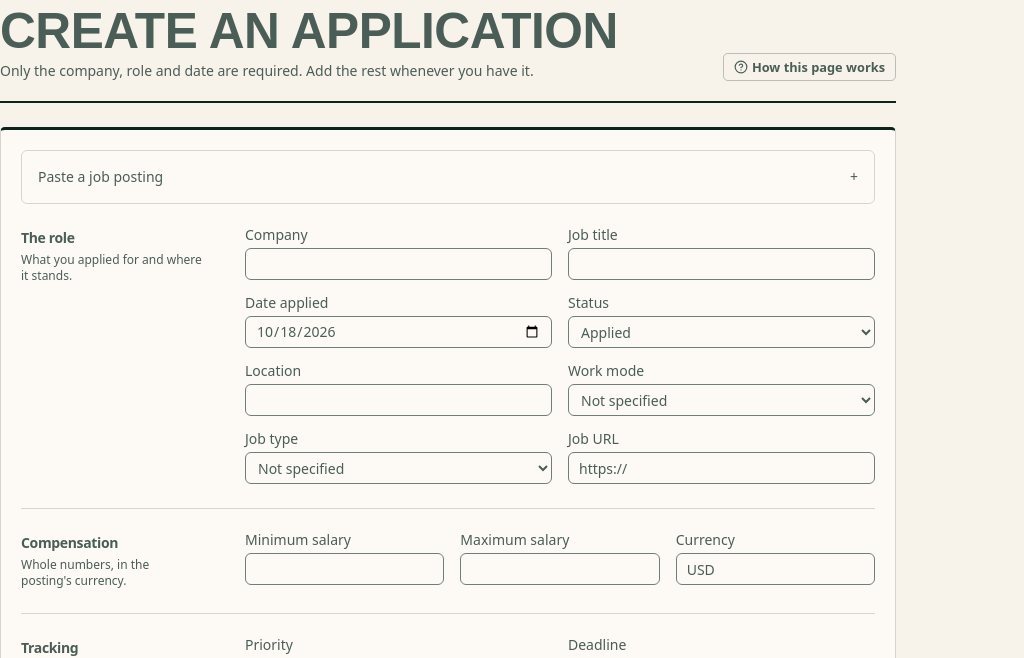
Test case: ApplicationFormPage validation › rejects a malformed job link before submitting
In the field labelled "Company": (398, 264) [245,248,552,280], type "Acme"
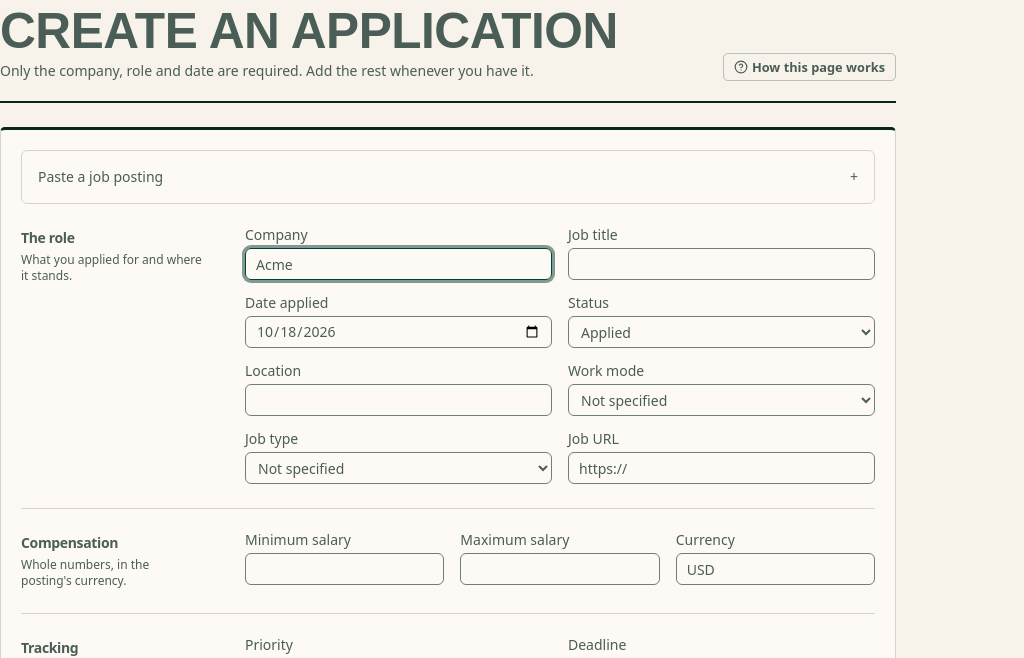
In the field labelled "Job title": (722, 264) [568,248,875,280], type "Engineer"
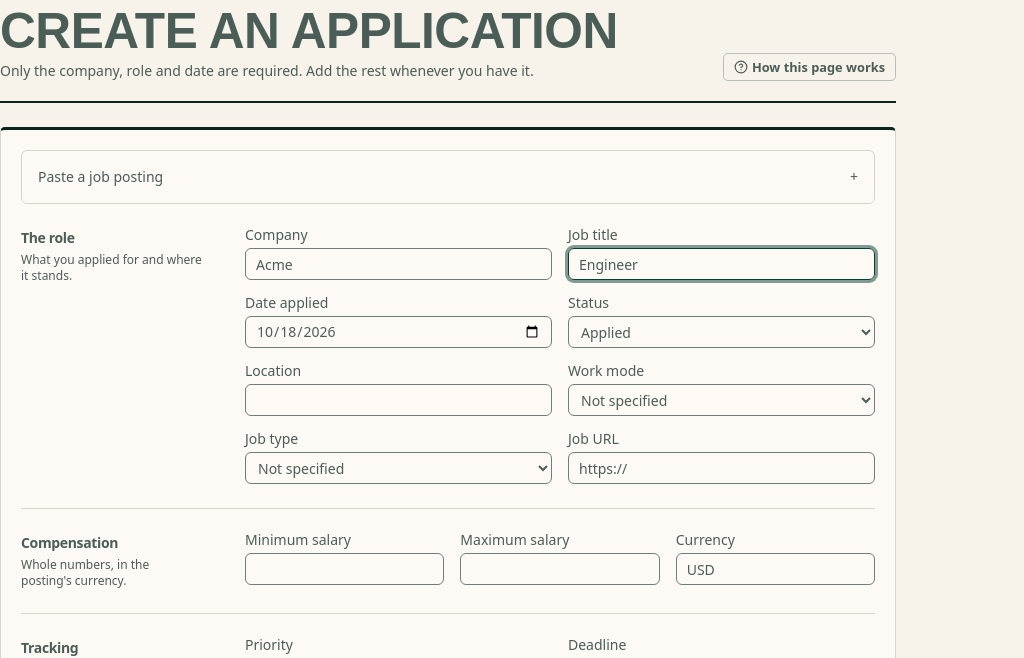
In the date field labelled "Date applied": (398, 332) [245,316,552,348], type "2026-01-05"
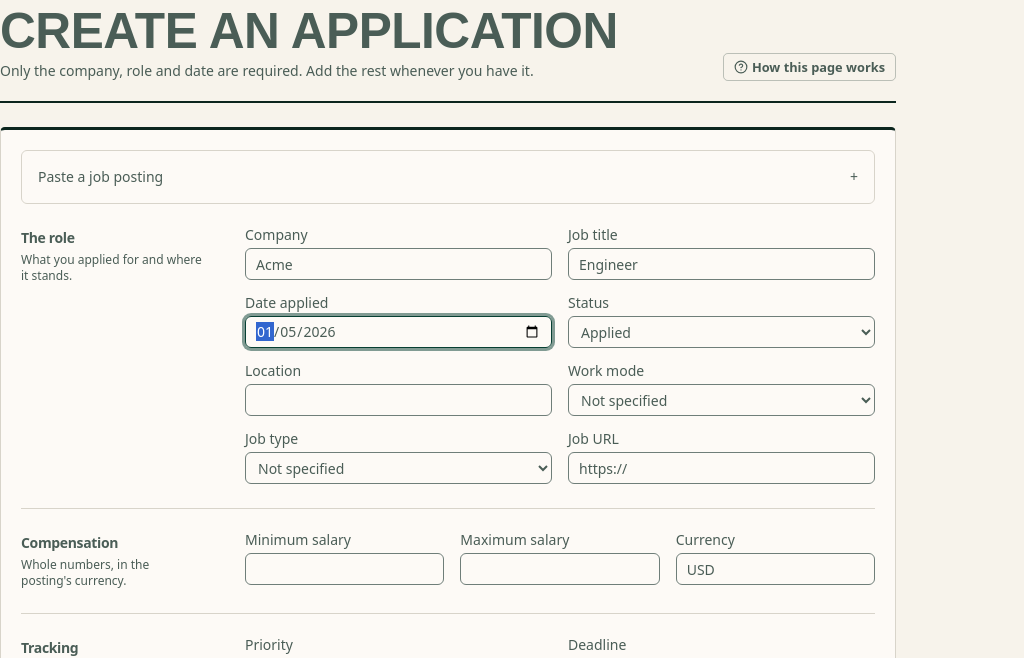
In the field labelled "Job URL": (722, 468) [568,452,875,484], type "not a link"
(page scrolled)
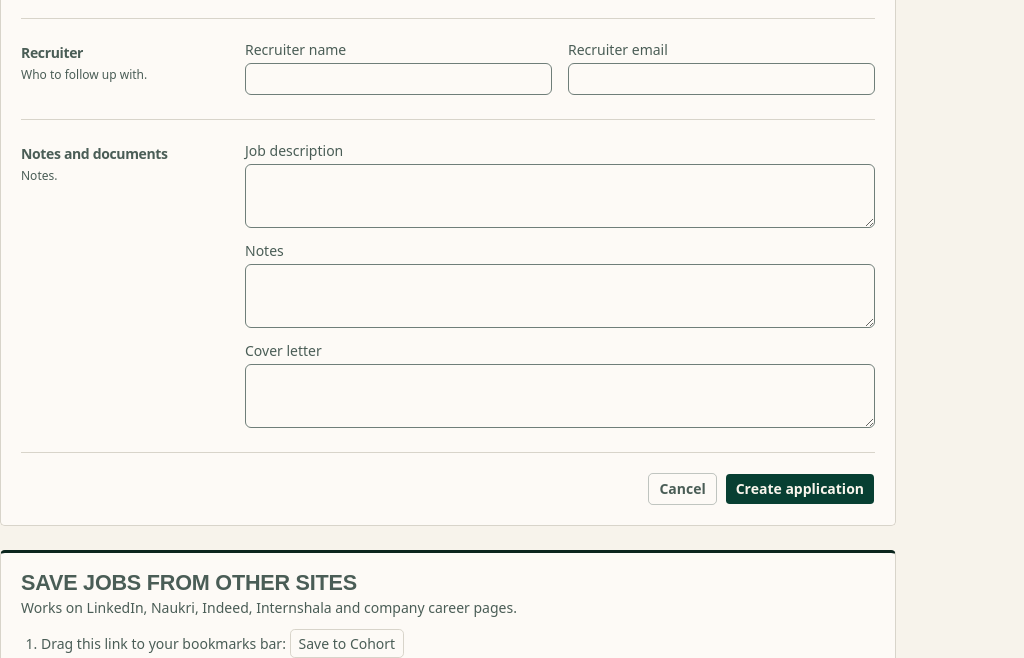
Click the button "Create application": (800, 489) [725,473,875,505]
(page scrolled)
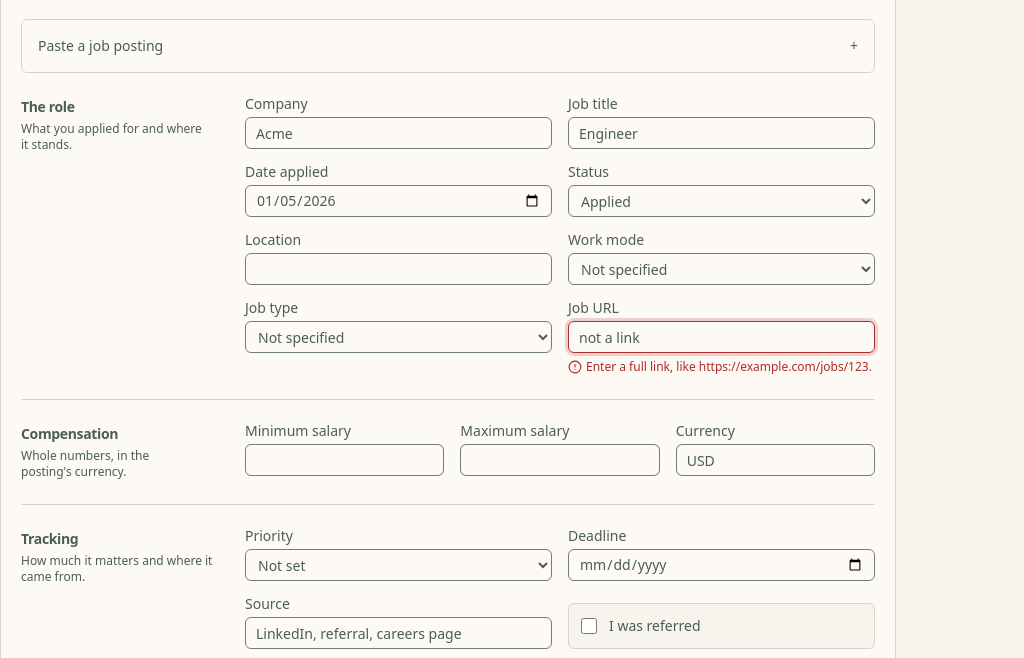
Expected: the text "Enter a full link, like https://example.com/jobs/123." is shown, [568,359,875,375]
